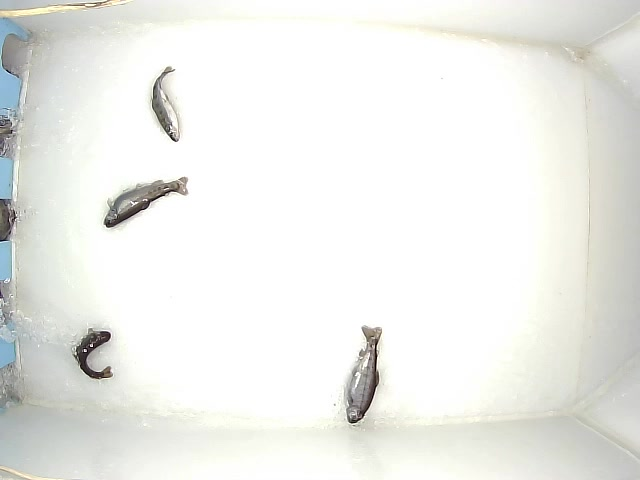fish: (103, 176, 189, 228), (345, 325, 382, 424), (150, 65, 180, 142), (71, 328, 113, 380)
